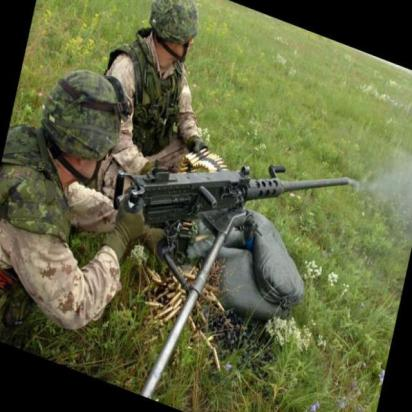Gun: (110, 94, 362, 303)
